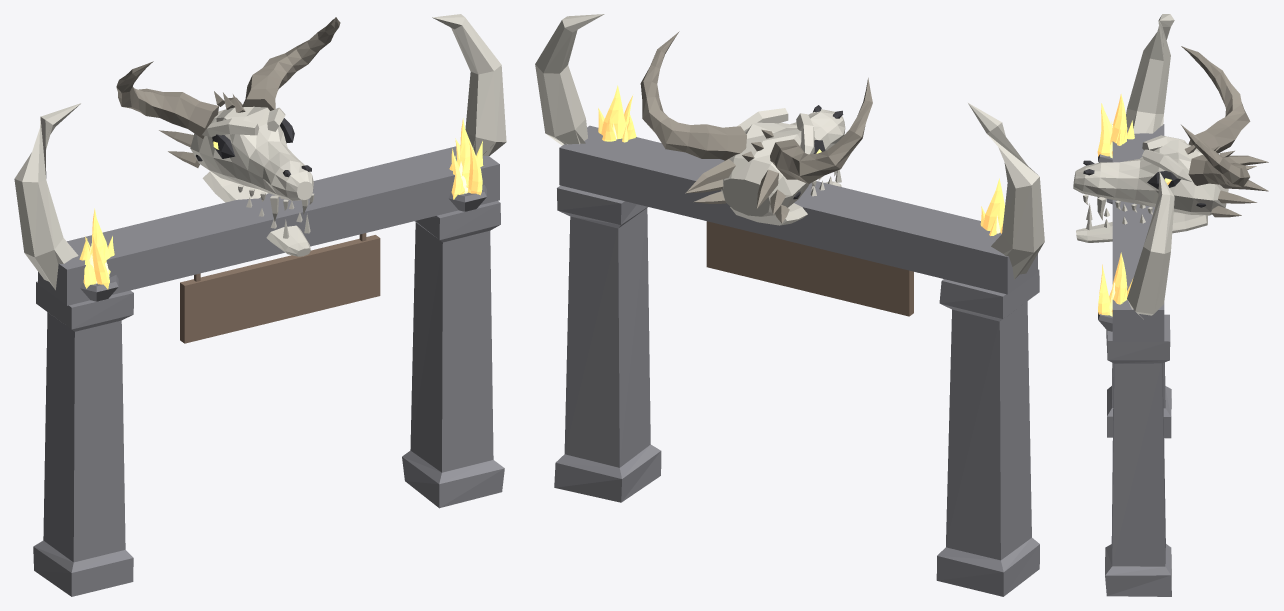
Rendered from Gate_Lair_v3.glb.
3 renders of one model, left to right at view 1: azimuth 30°, elevation 25°; view 2: azimuth 150°, elevation 25°; view 3: azimuth 270°, elevation 25°, orthographic. The views are drawn at different scales.
Visible parts, largest first — view 1: Stone, Bones, Sign, Horns, Flame, Sockets; view 2: Stone, Bones, Sign, Horns, Flame; view 3: Stone, Bones, Horns, Flame, Sockets.
Part boxes in pixels (x1,y1,x2,y2): Stone: (33,146,504,596); Bones: (14,14,506,290); Sign: (180,233,380,343); Horns: (116,17,340,167); Flame: (79,118,483,289); Sockets: (196,118,311,177); Stone: (554,125,1039,596); Bones: (535,14,1044,279); Sign: (706,221,913,316); Horns: (640,31,872,223); Flame: (598,85,1004,235); Stone: (1098,124,1171,596); Bones: (1073,14,1228,319); Horns: (1181,46,1268,217); Flame: (1097,94,1134,315); Sockets: (1083,160,1205,207).
Size of the model in its own units: 20.83 by 19.73 by 8.38.
